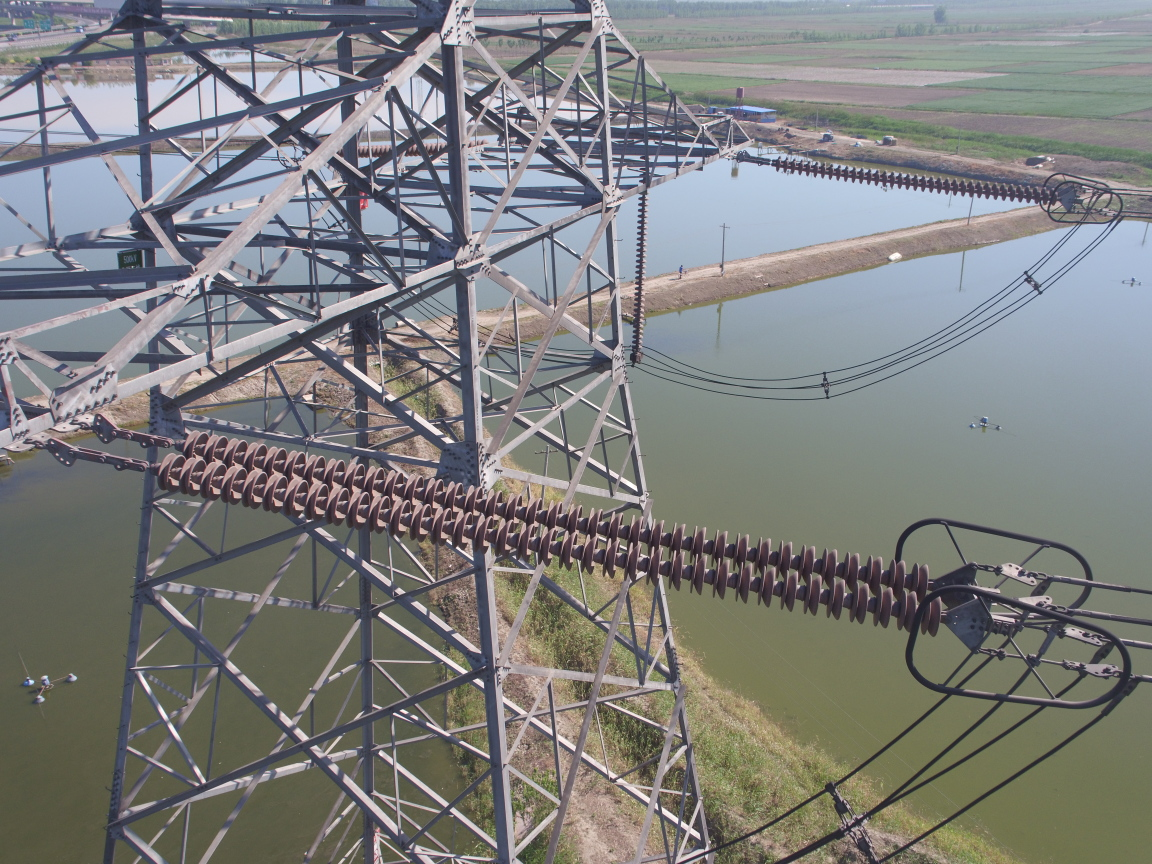insulator: (115, 426, 956, 639), (772, 155, 1058, 207)
